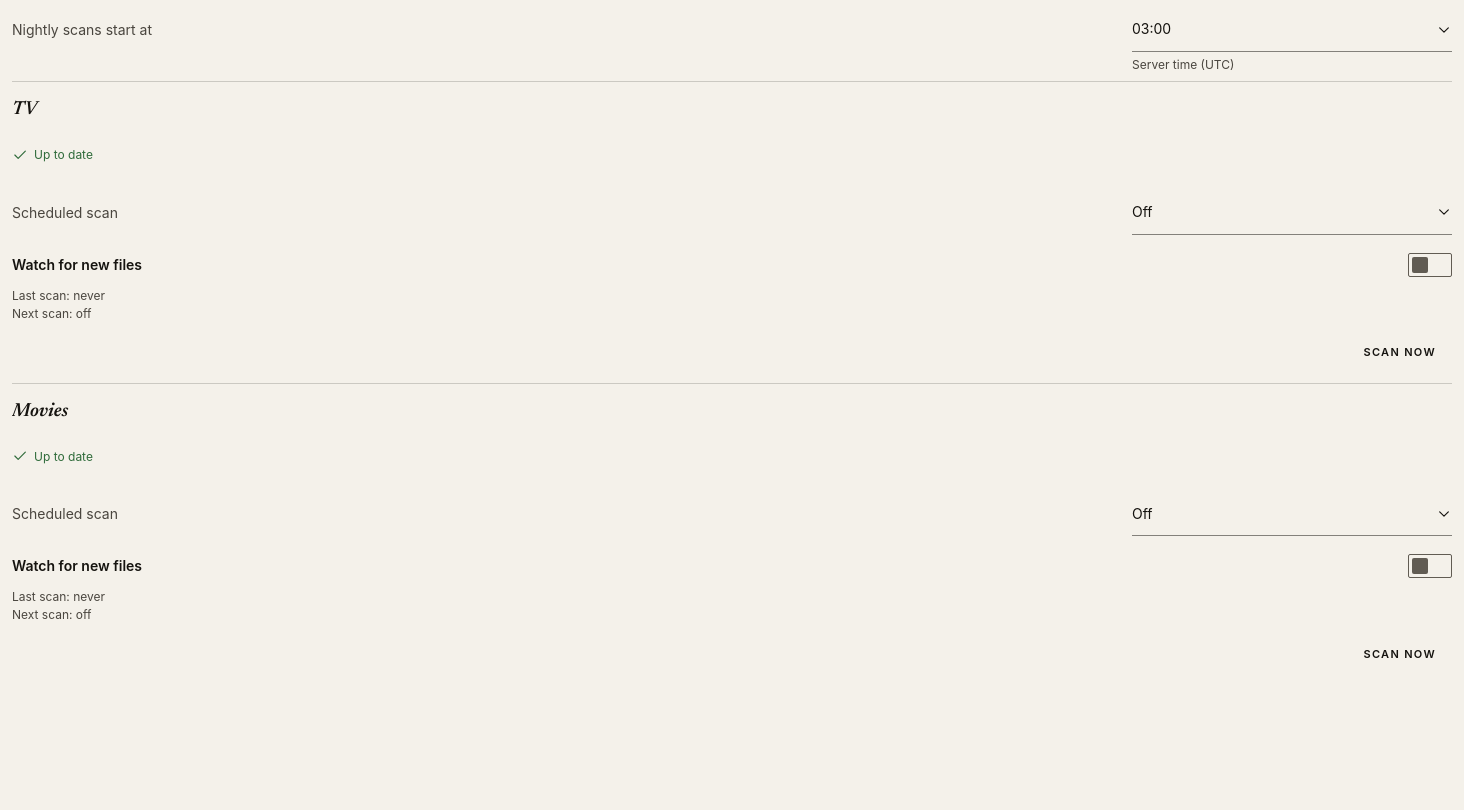
Test case: LibraryAutomation › changing the schedule PATCHes and shows the returned value
The image size is (1464, 810).
Expected: the heading "TV" is shown, [12,100,37,119]
What coordinates should you click on to do the following:
click the dropdown named "Scheduled scan"
I would click on:
 (1142, 212)
Its box is [1132,191,1452,235].
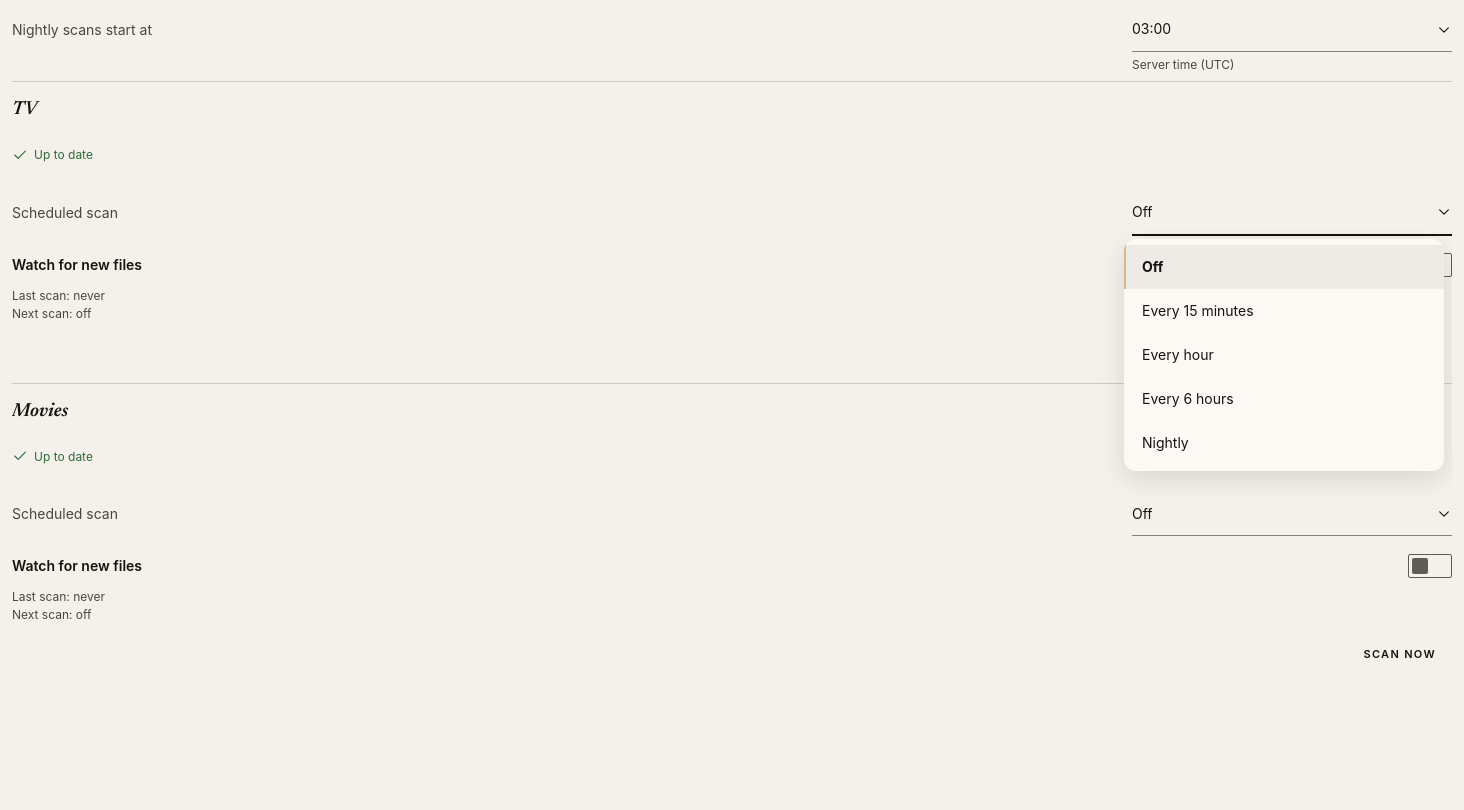
What coordinates should you click on to do the following:
click the option "Nightly"
I would click on:
 (1165, 442)
Its box is [1142,434,1189,451].
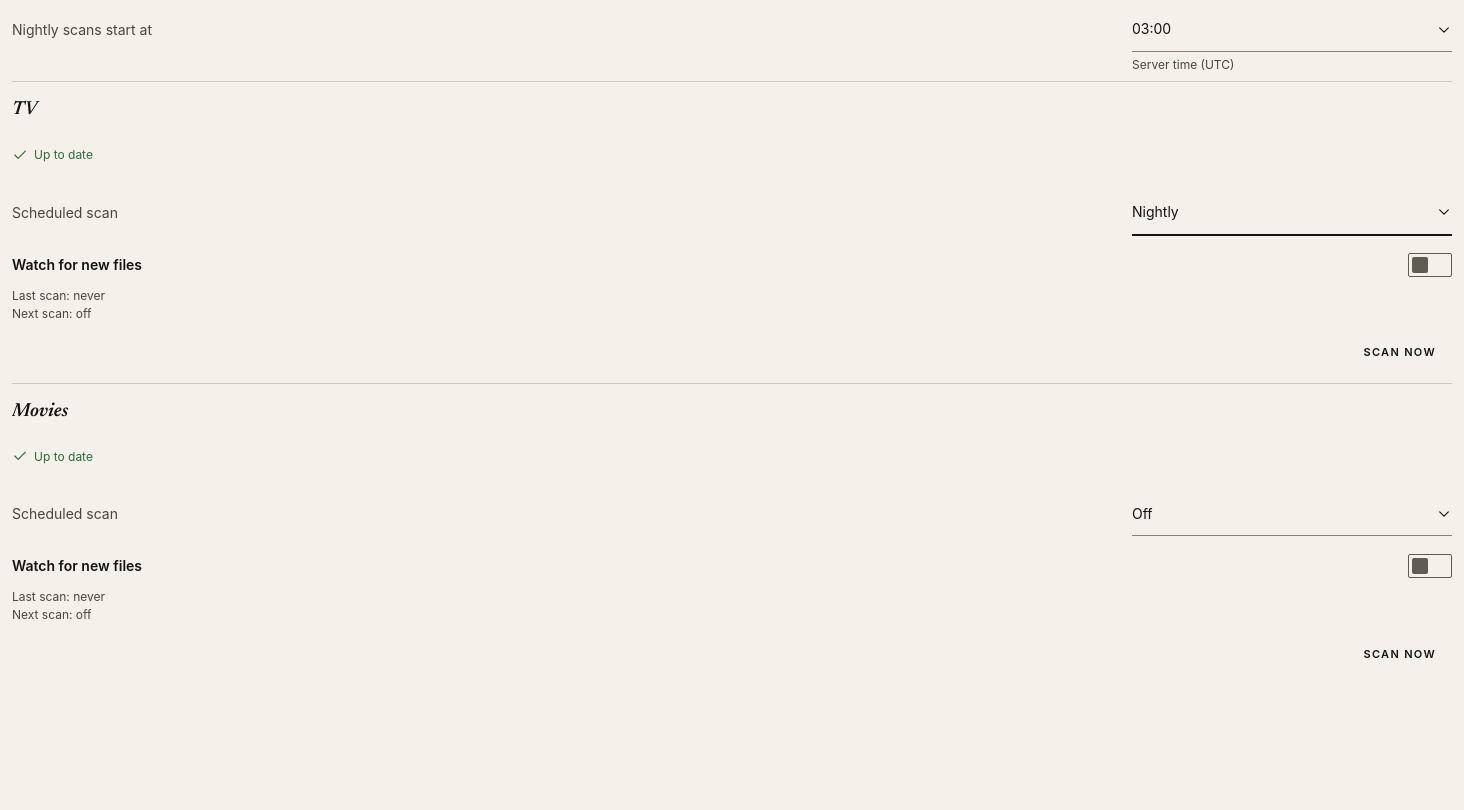
Now the dropdown named "Scheduled scan" reads "Nightly", box [1132,191,1452,235]
